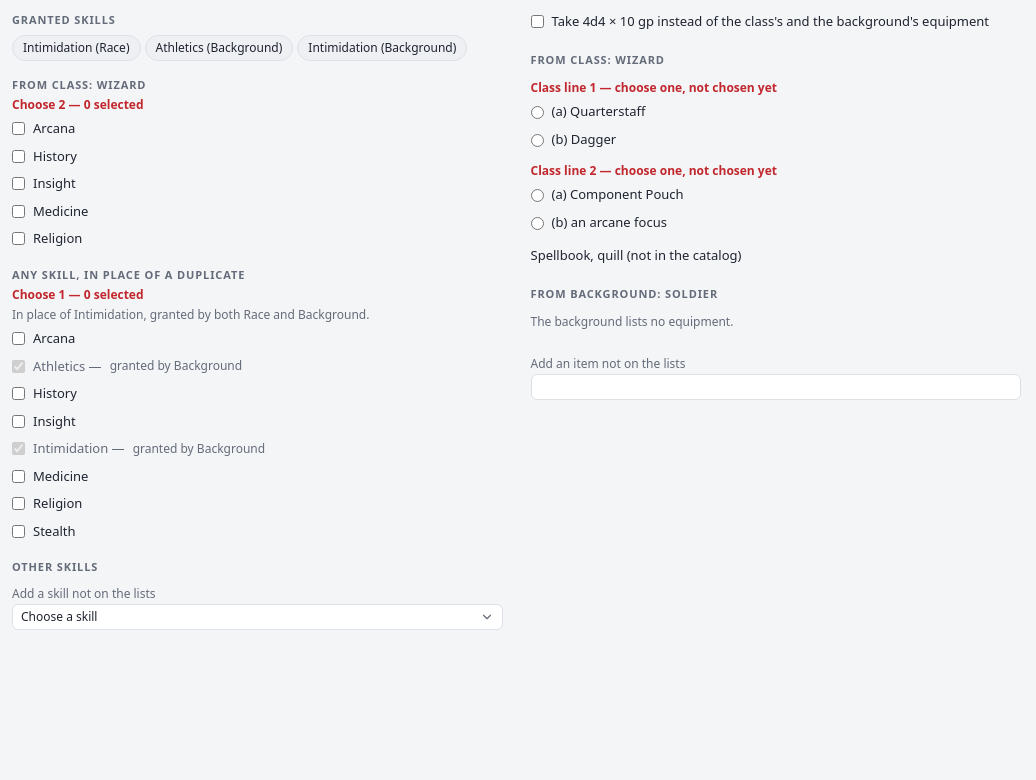
Scenario: ProficienciesStep › a skill the race and the background both grant › earns a classic character a pick of any skill in its place, which departs from nothing
Expected: the text "In place of Intimidation, granted by both Race and Background." is shown, x1=12 y1=306 x2=370 y2=323
Click the checkbox labelled "Stealth".
click(18, 531)  # box x1=12 y1=525 x2=25 y2=538
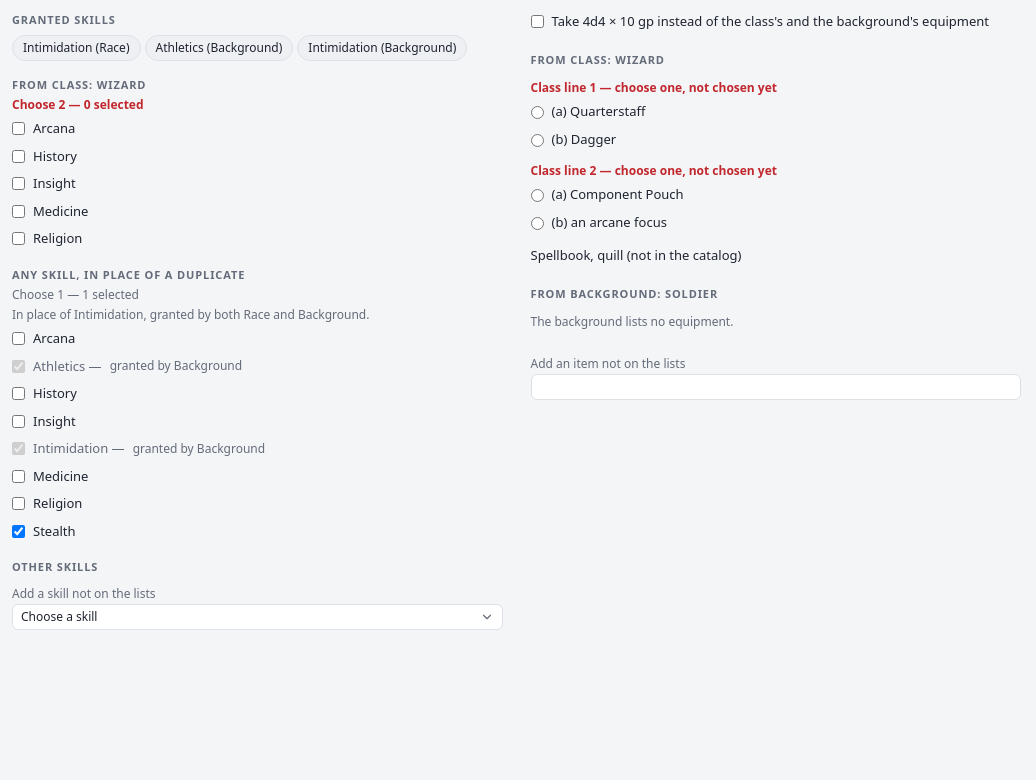
Expected: the text "Choose 1 — 1 selected" is shown, x1=12 y1=286 x2=139 y2=303
